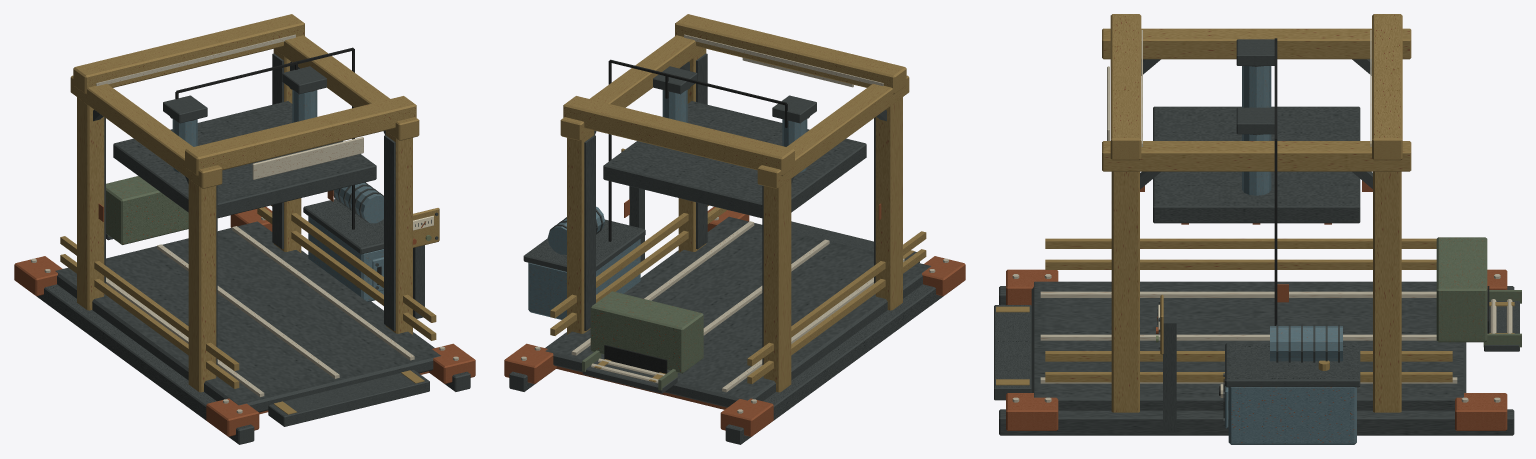
Rendered from CompactPrimaryScrapper.fbx.
3 views of the same model, side by side, from view 1: azimuth 30°, elevation 25°; view 2: azimuth 150°, elevation 25°; view 3: azimuth 270°, elevation 25° (orthographic). The views are drawn at different scales.
Visible parts, largest first — view 1: CompactPrimaryScrapper; view 2: CompactPrimaryScrapper; view 3: CompactPrimaryScrapper.
Boxes of the visible parts, x1,y1,x2,y2 form: CompactPrimaryScrapper: [14, 14, 475, 444]; CompactPrimaryScrapper: [504, 14, 965, 444]; CompactPrimaryScrapper: [994, 14, 1521, 444].
Size of the model in its own units: 512 by 427 by 686.
1 material, 1 textured.
